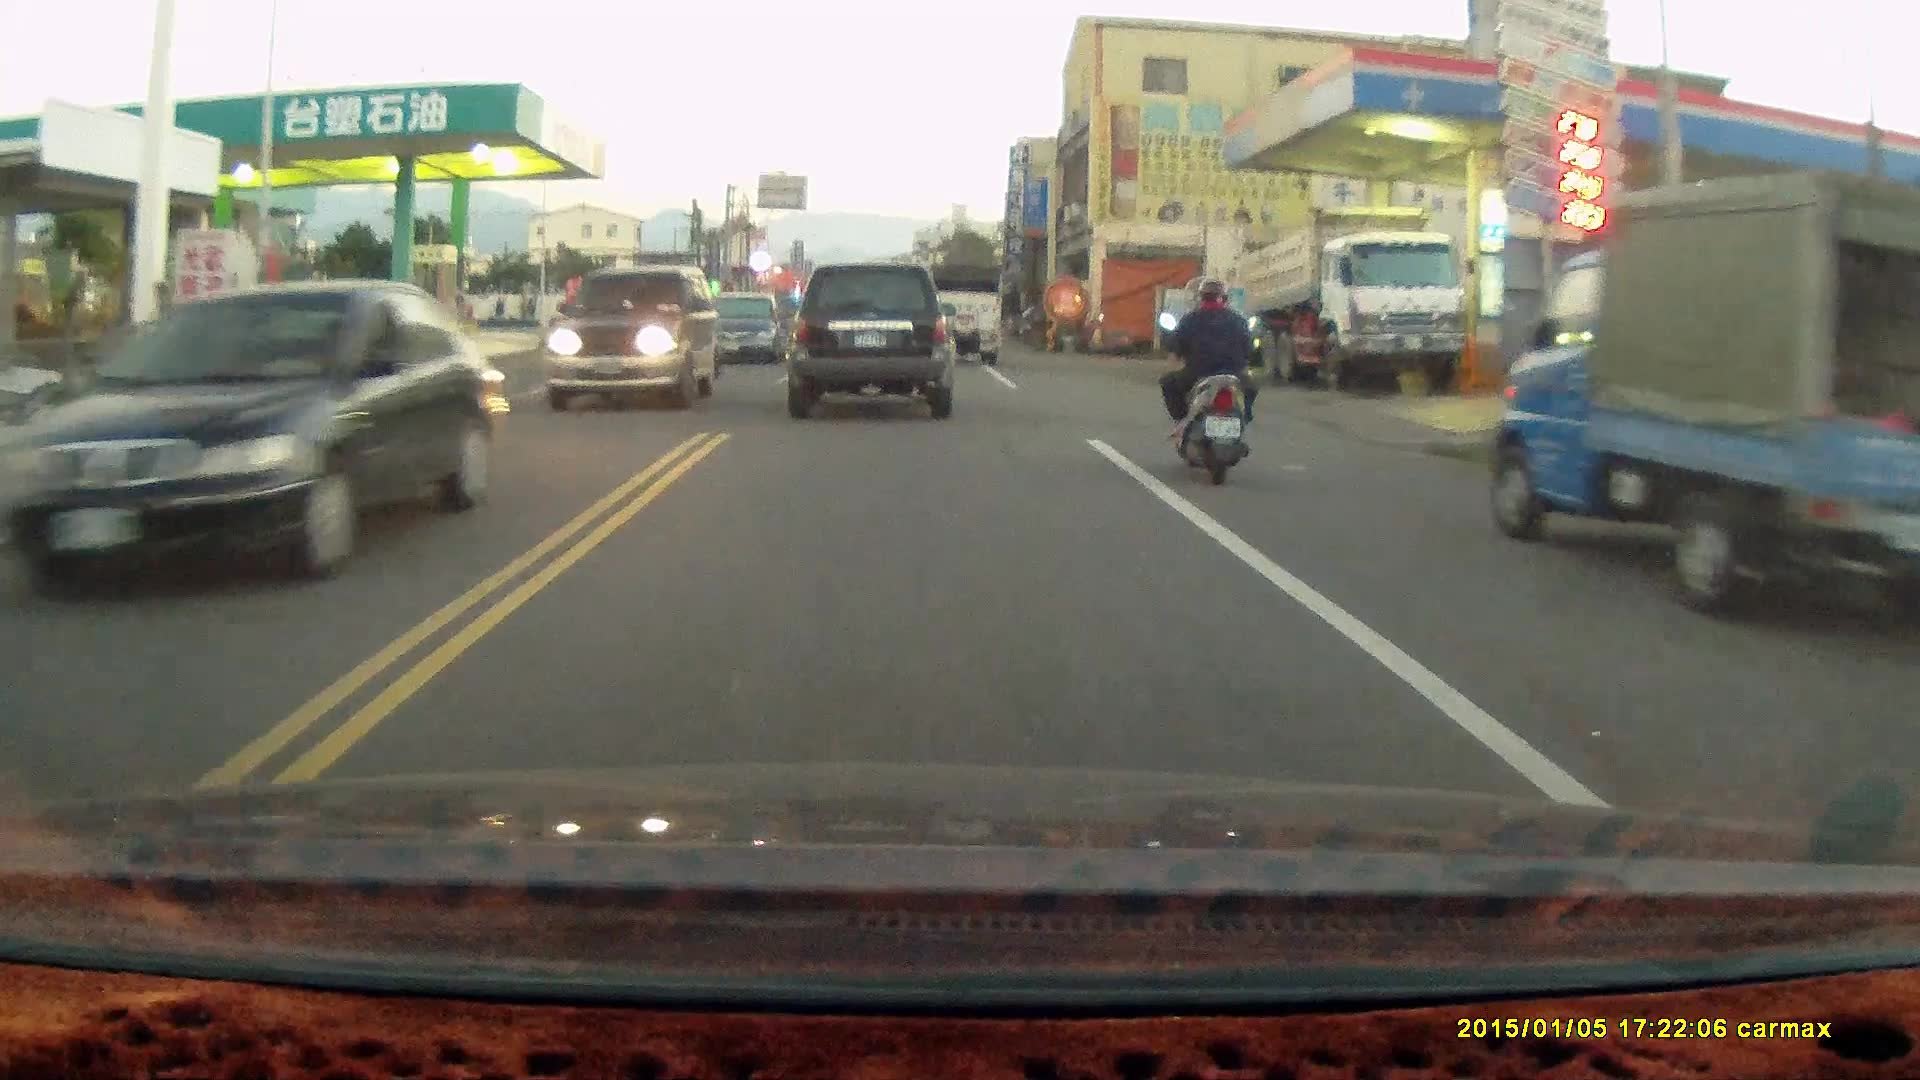rider: (1155, 276, 1262, 488)
vehicle: (1491, 169, 1920, 628), (1, 280, 491, 587), (1227, 194, 1466, 386), (789, 259, 955, 415), (548, 265, 720, 415), (915, 260, 1007, 368), (703, 294, 793, 364)
